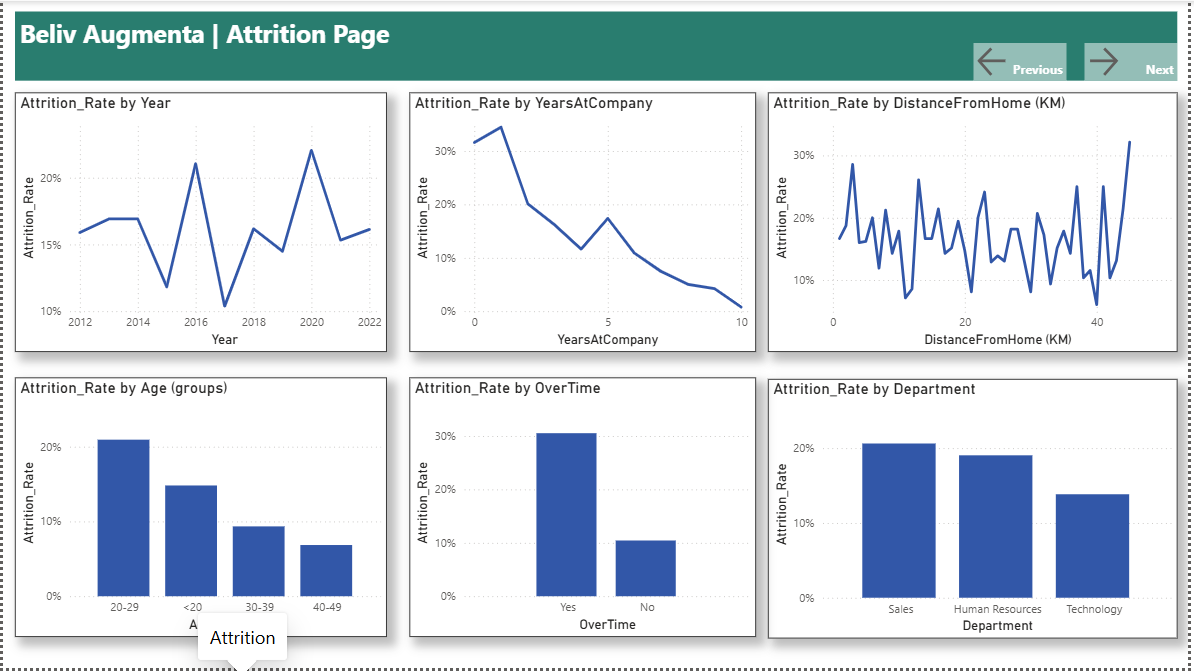

The page's visual inventory and layout, read from the dashboard file:
{"tool":"powerbi","page":{"name":"Attrition","canvas":[1280,720],"ordinal":1},"visuals":[{"type":"lineChart","fields":{"Y":["Calmeasures.Attrition_Rate"],"Category":["DimDate.Date.Variation.Date Hierarchy.Year"]},"box":[13,98.8,401.6,280.1],"z":0},{"type":"lineChart","fields":{"Y":["Calmeasures.Attrition_Rate"],"Category":["DimEmployee.YearsAtCompany"]},"box":[438.8,98.8,374,280.1],"z":1000},{"type":"columnChart","fields":{"Y":["Calmeasures.Attrition_Rate"],"Category":["DimEmployee.Department"]},"box":[825.8,408,442,280.1],"z":2000},{"type":"columnChart","fields":{"Y":["Calmeasures.Attrition_Rate"],"Category":["DimEmployee.Age (groups)"]},"box":[13,406.4,401.6,280.1],"z":3000},{"type":"columnChart","fields":{"Y":["Calmeasures.Attrition_Rate"],"Category":["DimEmployee.OverTime"]},"box":[438.8,406.4,374,280.1],"z":4000},{"type":"lineChart","fields":{"Category":["DimEmployee.DistanceFromHome (KM)"],"Y":["Calmeasures.Attrition_Rate"]},"box":[825.8,98.8,442,280.1],"z":5000},{"type":"textbox","box":[13,11.3,1254.9,74.5],"z":6000},{"type":"actionButton","box":[1047.6,45.3,100.4,40.5],"z":7000},{"type":"actionButton","box":[1167.5,45.3,100.4,40.5],"z":8000}]}

Visuals, with their boxes in screenshot pixels (x1, y1, x2, y2), scaled from the page's 1280x720 canvas onto the 1194x671 screenshot:
lineChart - Calmeasures.Attrition_Rate x DimDate.Date.Variation.Date Hierarchy.Year: {"x1": 12, "y1": 92, "x2": 387, "y2": 353}
lineChart - Calmeasures.Attrition_Rate x DimEmployee.YearsAtCompany: {"x1": 409, "y1": 92, "x2": 758, "y2": 353}
columnChart - Calmeasures.Attrition_Rate x DimEmployee.Department: {"x1": 770, "y1": 380, "x2": 1183, "y2": 641}
columnChart - Calmeasures.Attrition_Rate x DimEmployee.Age (groups): {"x1": 12, "y1": 379, "x2": 387, "y2": 640}
columnChart - Calmeasures.Attrition_Rate x DimEmployee.OverTime: {"x1": 409, "y1": 379, "x2": 758, "y2": 640}
lineChart - DimEmployee.DistanceFromHome (KM) x Calmeasures.Attrition_Rate: {"x1": 770, "y1": 92, "x2": 1183, "y2": 353}
textbox: {"x1": 12, "y1": 11, "x2": 1183, "y2": 80}
actionButton: {"x1": 977, "y1": 42, "x2": 1071, "y2": 80}
actionButton: {"x1": 1089, "y1": 42, "x2": 1183, "y2": 80}
